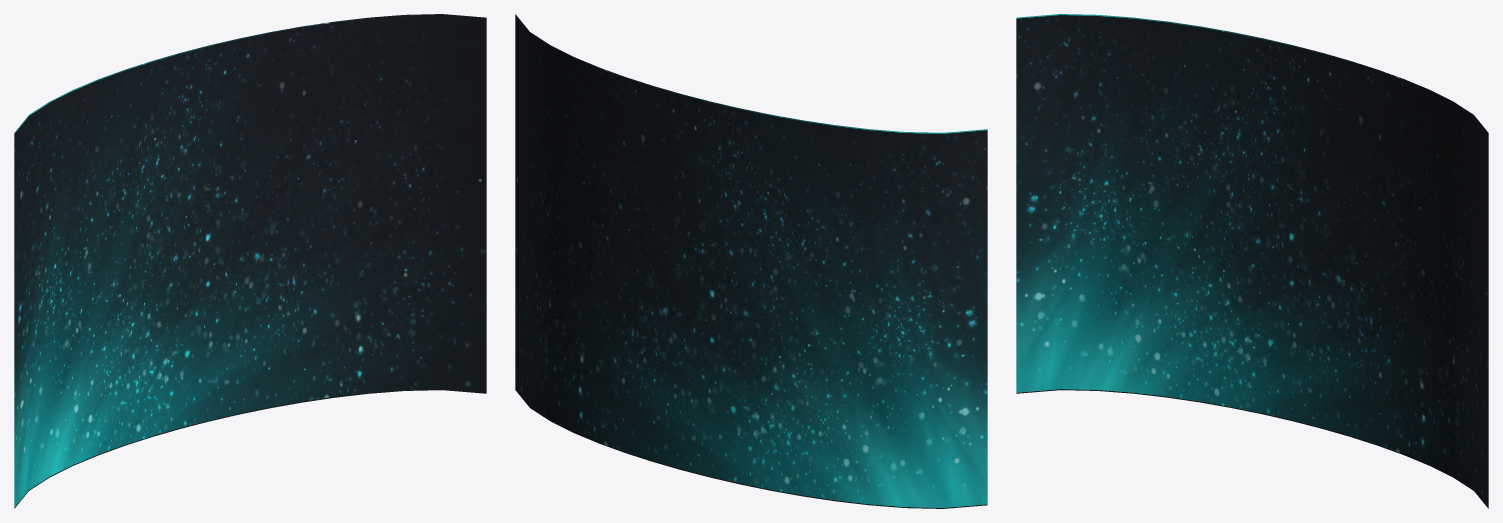
The model's file is SkyPlane.dae.
3 views of the same model, side by side, from view 1: azimuth 30°, elevation 25°; view 2: azimuth 150°, elevation 25°; view 3: azimuth 330°, elevation 25° (orthographic).
Visible parts, largest first — view 1: Plane; view 2: Plane; view 3: Plane.
Part boxes in pixels (left/top/right/bottom): Plane: left=14, top=14, right=486, bottom=508; Plane: left=515, top=14, right=987, bottom=508; Plane: left=1016, top=14, right=1488, bottom=508.
Size of the model in its own units: 8 by 1.2 by 6.09.
1 material, 1 textured.
